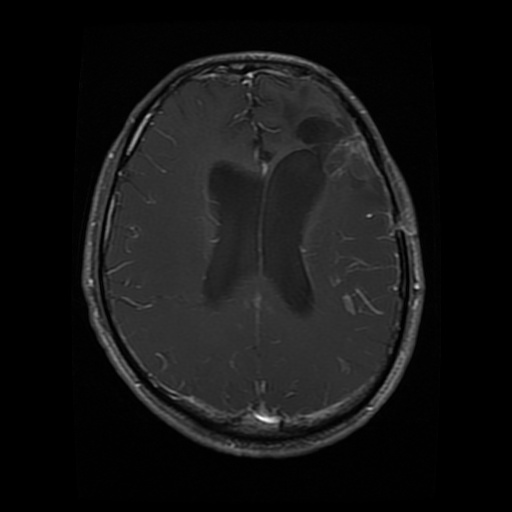glioma: (278, 83, 388, 200)
